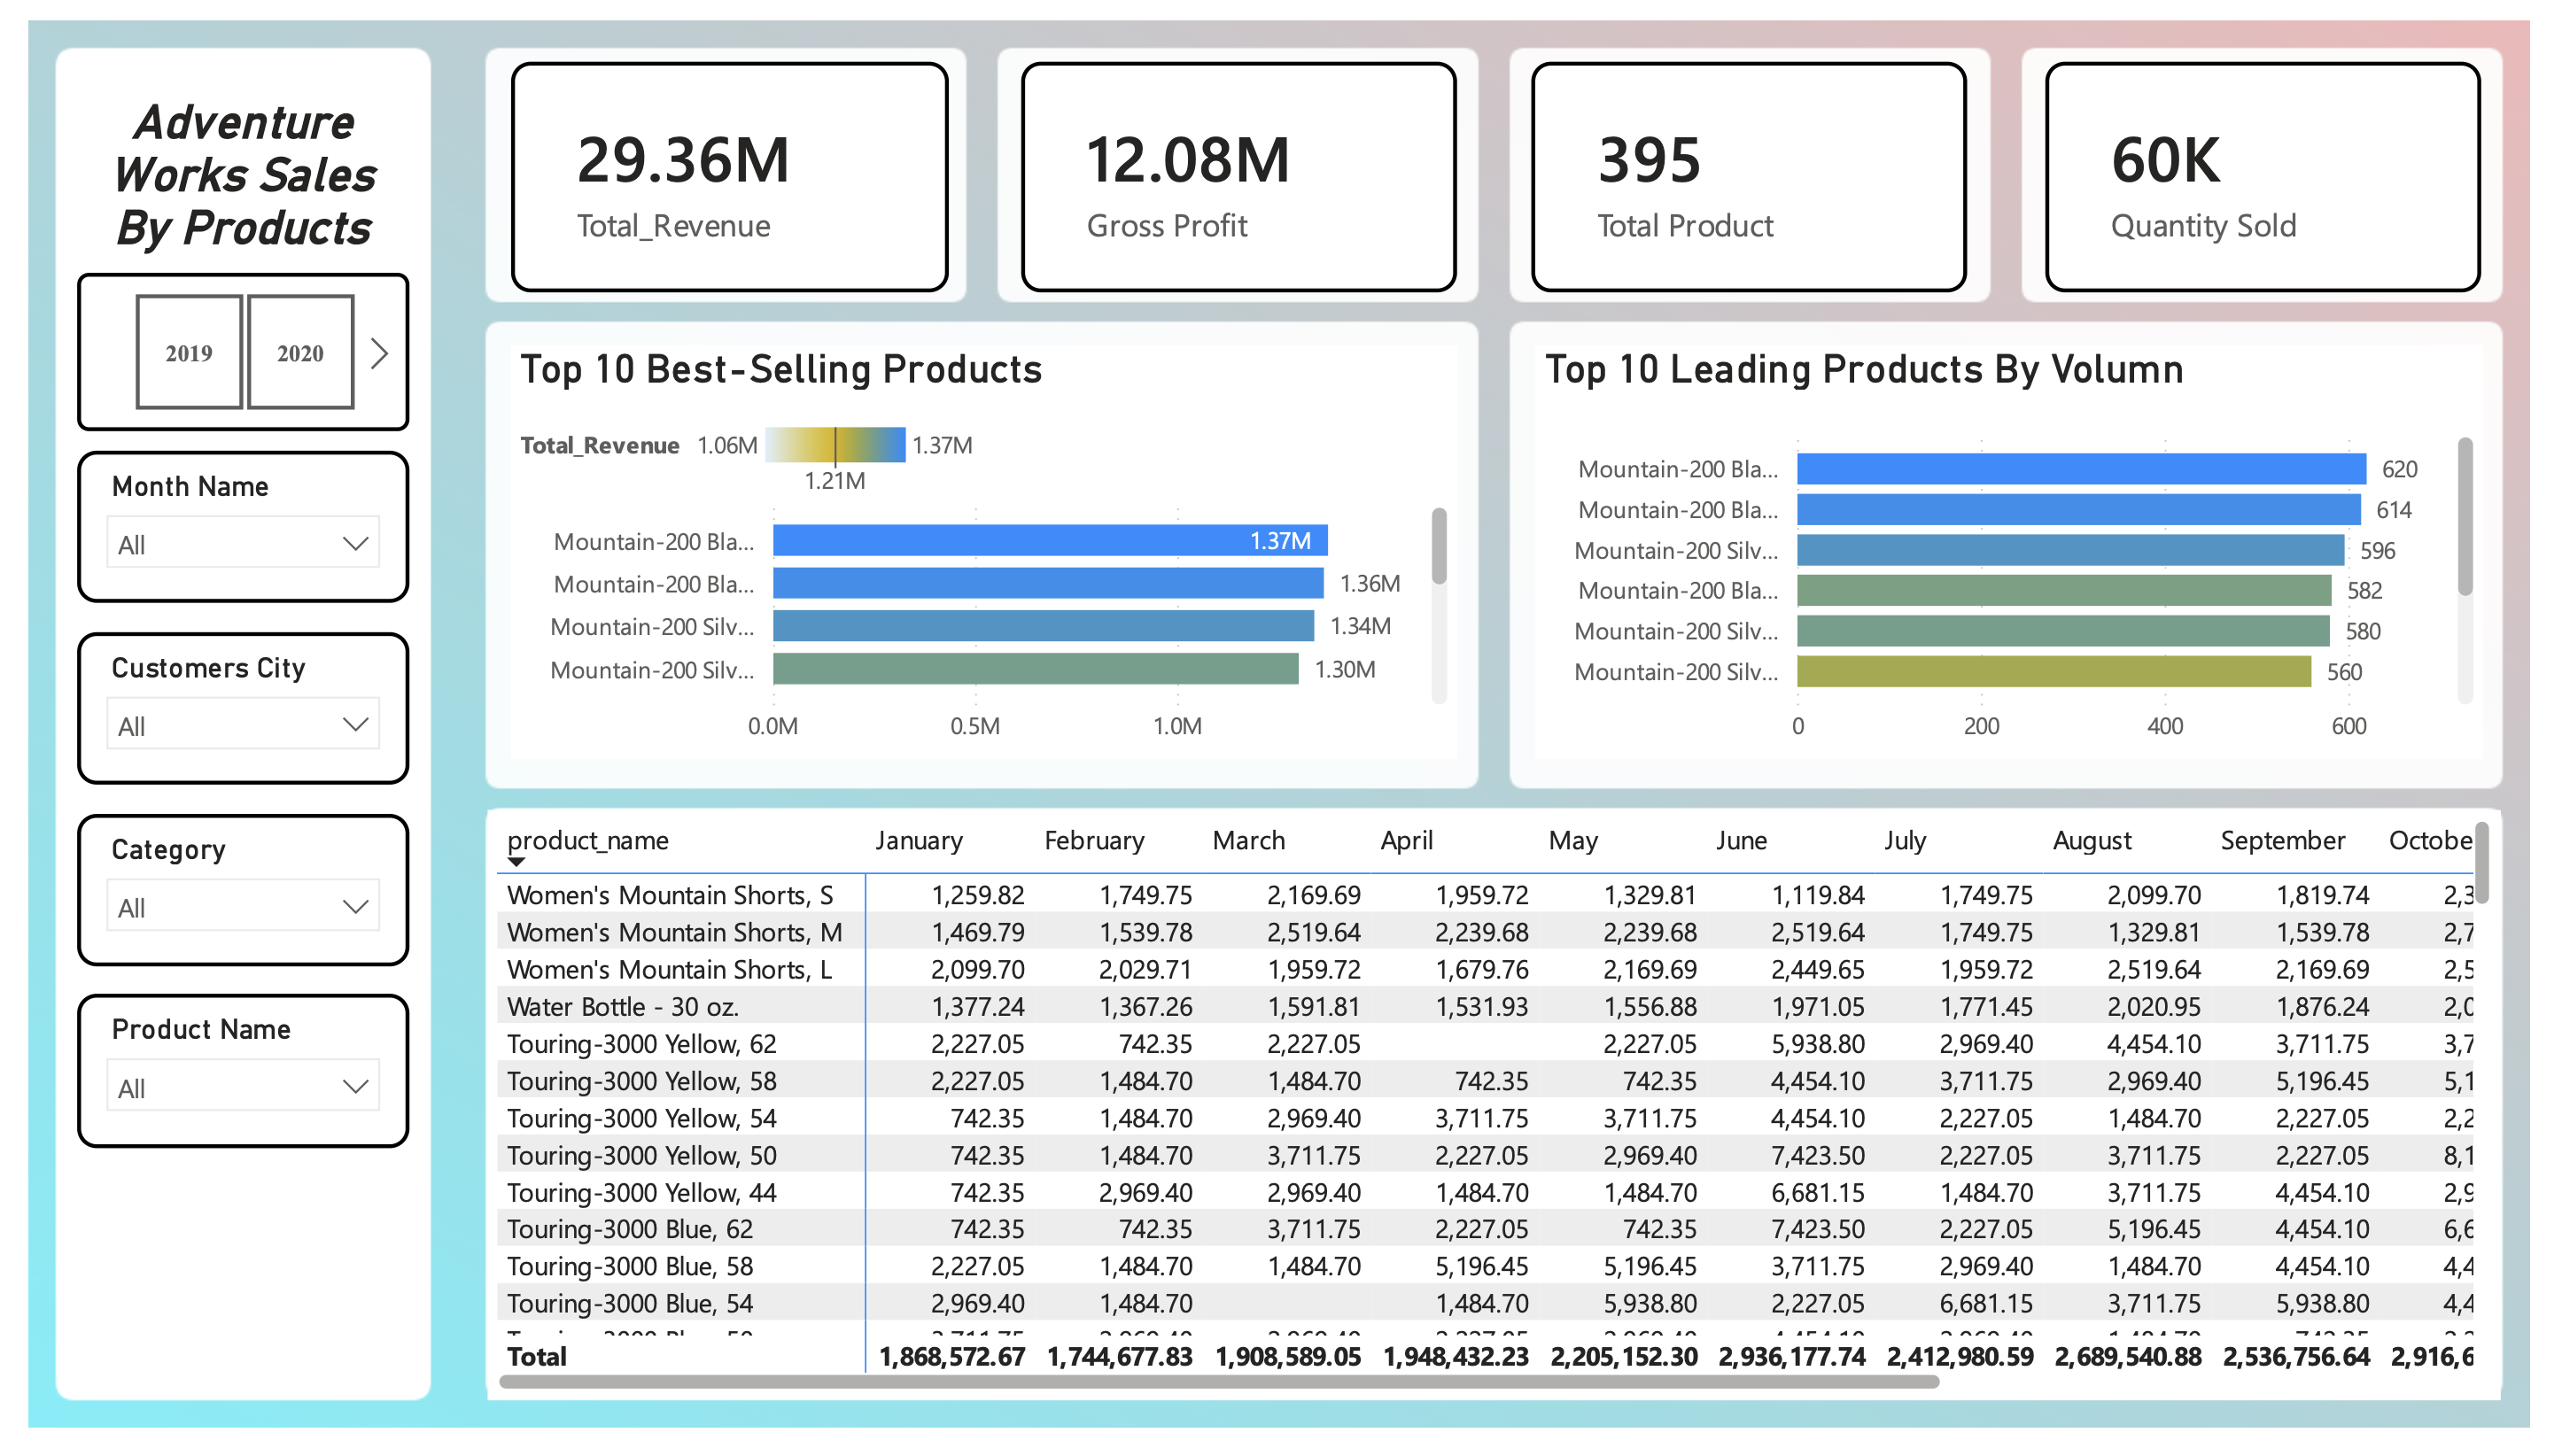

The dashboard page shown, as its layout file describes it:
{"tool":"powerbi","page":{"name":"D3_Adventure Works By Product","canvas":[1280,720],"ordinal":2},"visuals":[{"type":"image","box":[0,0,1280,719.7],"z":0},{"type":"slicer","fields":{"Values":["dim_date.year"]},"box":[24.9,129.3,169.7,80.9],"z":1},{"type":"slicer","fields":{"Values":["dim_date.month_name"]},"box":[24.9,219.9,169.7,78.6],"z":2},{"type":"textbox","box":[23.9,15.9,170.9,110.5],"z":3},{"type":"slicer","fields":{"Values":["dim_product.category"]},"box":[24.9,405.6,169.7,78.6],"z":4},{"type":"slicer","fields":{"Values":["dim_geography.city"]},"box":[24.9,312.7,169.7,78.6],"z":5},{"type":"slicer","fields":{"Values":["dim_product.product_name"]},"box":[24.9,498.4,169.7,78.6],"z":6},{"type":"cardVisual","fields":{"Data":["Key Metrics.Total_Revenue"]},"box":[247.2,20.5,223.3,118.5],"z":9},{"type":"cardVisual","fields":{"Data":["Key Metrics.Gross Profit"]},"box":[508.1,20.5,223.3,118.5],"z":10},{"type":"cardVisual","fields":{"Data":["Key Metrics.Total Product"]},"box":[769,20.5,223.3,118.5],"z":11},{"type":"cardVisual","fields":{"Data":["Key Metrics.Quantity Sold"]},"box":[1032.2,20.5,223.3,118.5],"z":12},{"type":"pivotTable","fields":{"Rows":["dim_product.product_name"],"Columns":["dim_date.date.Variation.Date Hierarchy.Year","dim_date.date.Variation.Date Hierarchy.Quarter","dim_date.date.Variation.Date Hierarchy.Month","dim_date.date.Variation.Date Hierarchy.Day"],"Values":["Key Metrics.Total_Revenue"]},"box":[235.2,403.5,1029.4,302],"z":13},{"type":"barChart","title":"Top 10 Best-Selling Products","fields":{"Y":["Key Metrics.Total_Revenue"],"Category":["dim_product.product_name"]},"box":[246.7,165.8,484.5,212],"z":14},{"type":"barChart","title":"Top 10 Leading Products By Volumn","fields":{"Category":["dim_product.product_name"],"Y":["Key Metrics.Quantity Sold"]},"box":[771.1,165.8,484.5,212],"z":15}]}

Visuals, with their boxes in screenshot pixels (x1, y1, x2, y2), scaled from the page's 1280x720 canvas onto the 2562x1456 screenshot:
image: bbox(0, 0, 2561, 1455)
slicer - dim_date.year: bbox(50, 261, 390, 425)
slicer - dim_date.month_name: bbox(50, 445, 390, 604)
textbox: bbox(48, 32, 390, 256)
slicer - dim_product.category: bbox(50, 820, 390, 980)
slicer - dim_geography.city: bbox(50, 632, 390, 791)
slicer - dim_product.product_name: bbox(50, 1008, 390, 1166)
cardVisual - Key Metrics.Total_Revenue: bbox(495, 42, 942, 281)
cardVisual - Key Metrics.Gross Profit: bbox(1017, 42, 1464, 281)
cardVisual - Key Metrics.Total Product: bbox(1539, 42, 1986, 281)
cardVisual - Key Metrics.Quantity Sold: bbox(2066, 42, 2513, 281)
pivotTable - dim_product.product_name x dim_date.date.Variation.Date Hierarchy.Year: bbox(470, 816, 2531, 1427)
"Top 10 Best-Selling Products" barChart: bbox(493, 336, 1463, 764)
"Top 10 Leading Products By Volumn" barChart: bbox(1543, 336, 2513, 764)
